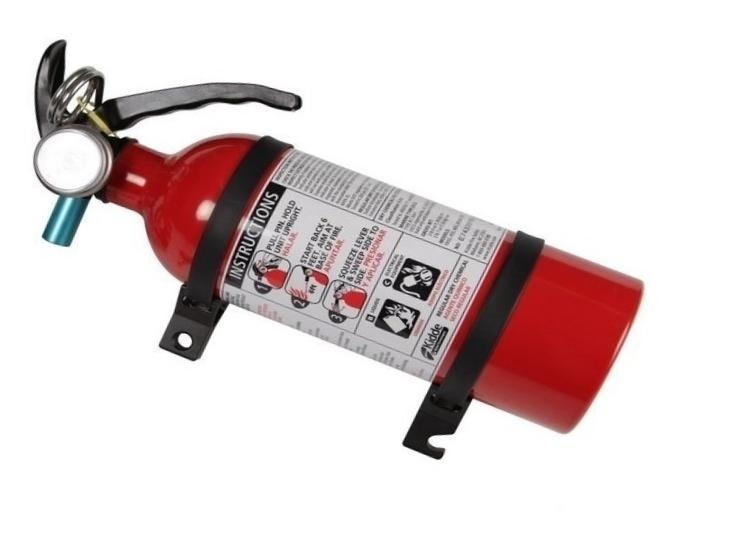fire_extinguisher: (31, 38, 645, 460)
